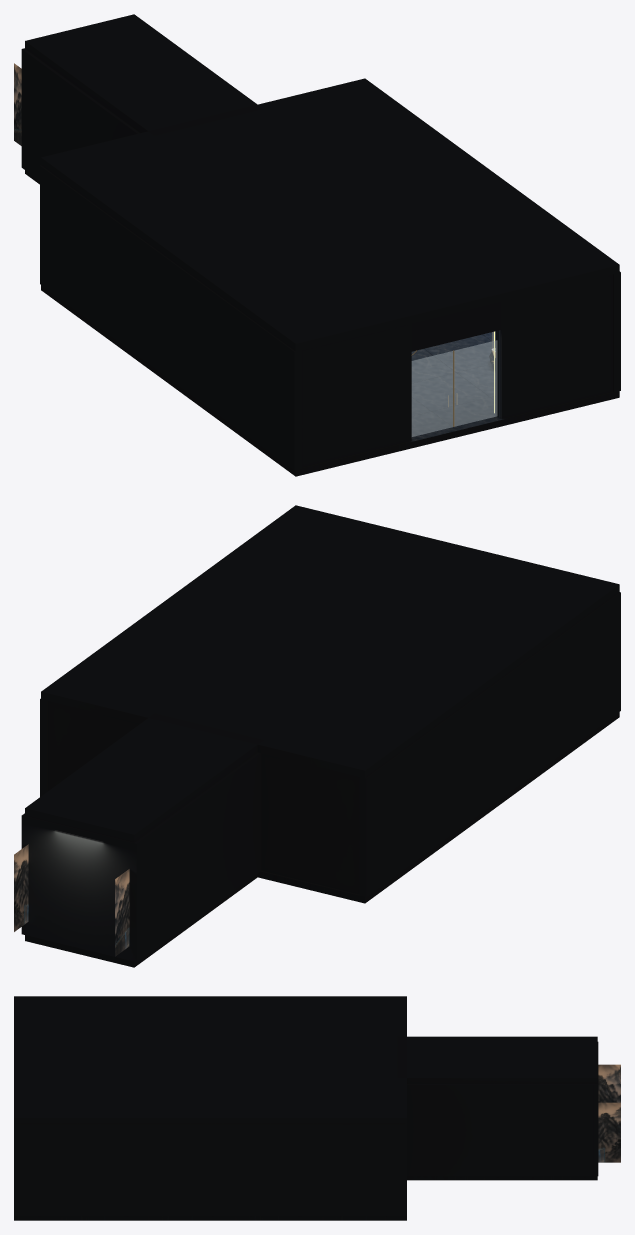
Rendered from museum_R17.glb.
3 renders of one model, top to bottom at view 1: azimuth 30°, elevation 25°; view 2: azimuth 150°, elevation 25°; view 3: azimuth 270°, elevation 25°, orthographic. The views are drawn at different scales.
Parts seen in each view (by area): view 1: R14_Baked_Architecture, Web_R14_Sliding glass door Right, Web_R14_Sliding glass door Left; view 2: R14_Baked_Architecture; view 3: R14_Baked_Architecture.
Part boxes in pixels (box(x1,y1,x2,y2)): R14_Baked_Architecture: box(14, 14, 620, 476); Web_R14_Sliding glass door Right: box(454, 340, 497, 426); Web_R14_Sliding glass door Left: box(412, 351, 452, 436); R14_Baked_Architecture: box(14, 505, 620, 967); R14_Baked_Architecture: box(14, 996, 620, 1220).
Size of the model in its own units: 16.72 by 6.5 by 34.9.
Materials: 12 (2 with a texture image).
